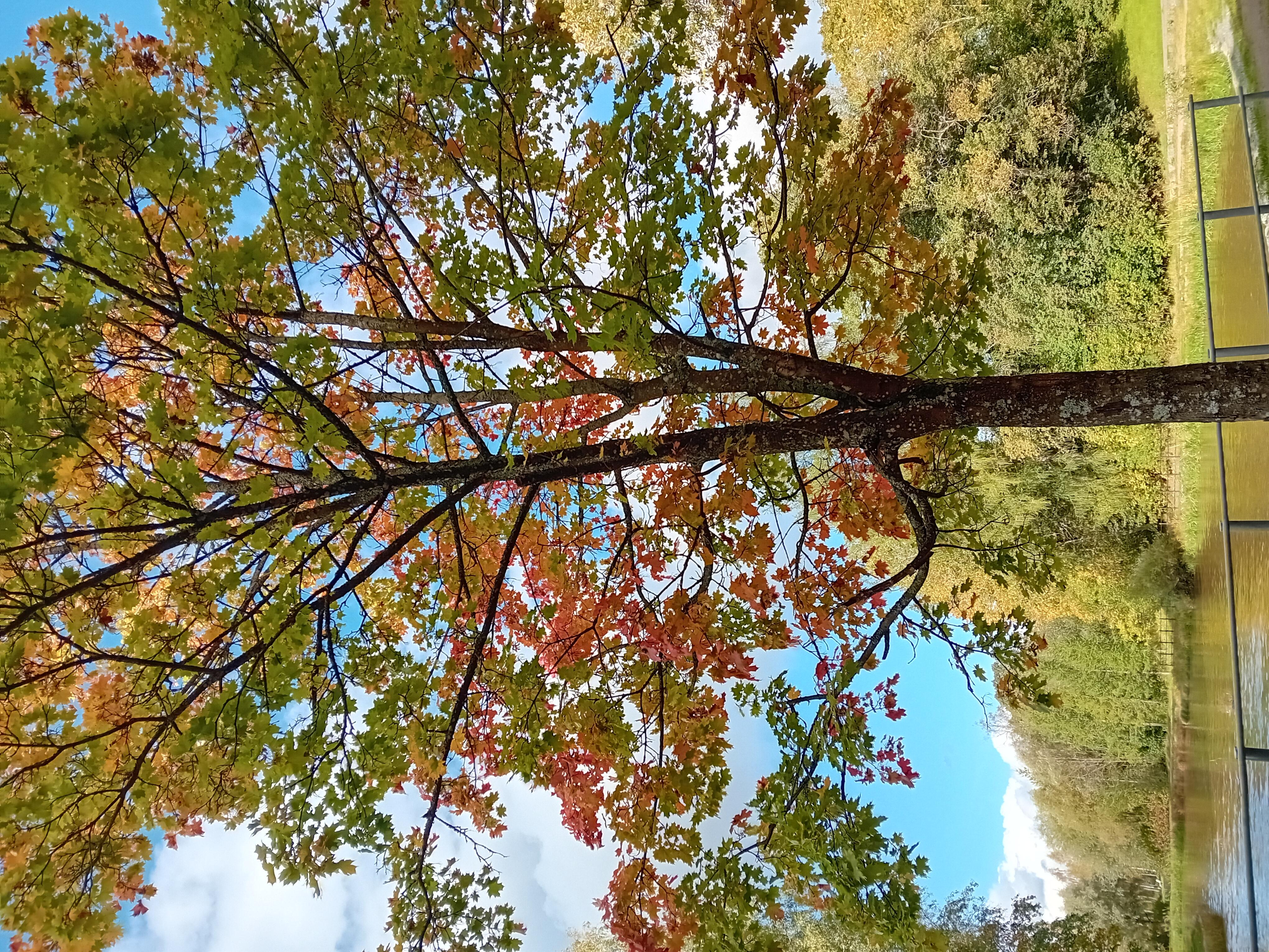Maple: (0, 1, 1267, 899)
